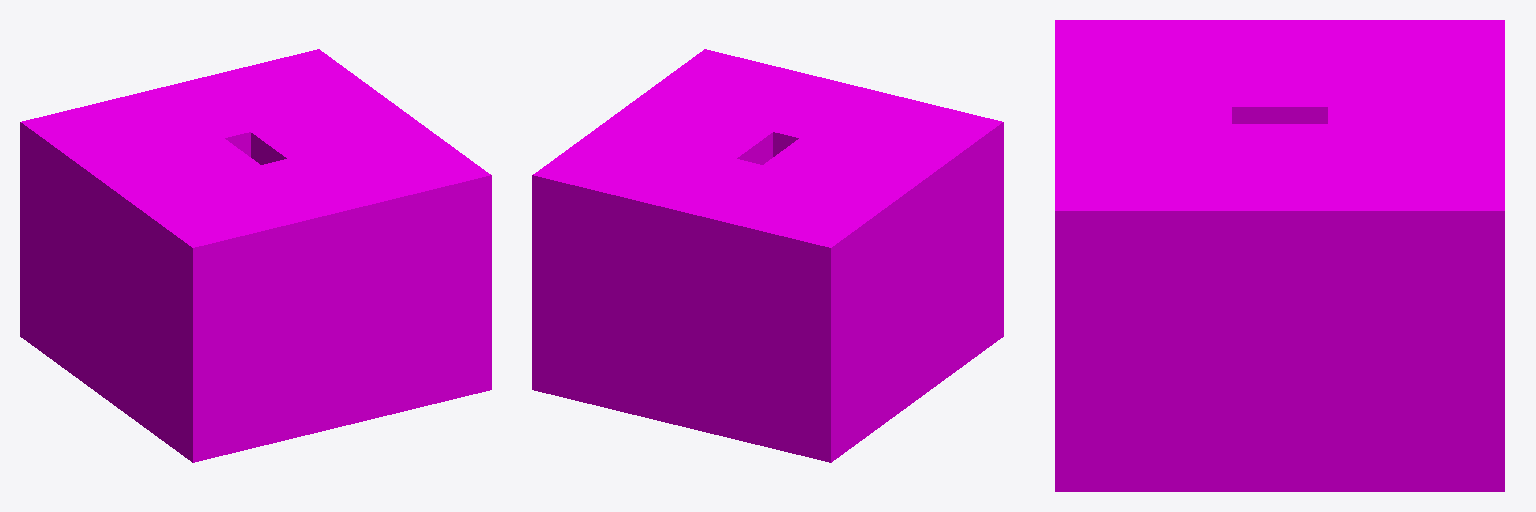
The robot description file, URDF, robot "boxcube1.urdf":
<?xml version="0.0" ?>
<robot name="boxcube1.urdf">
  <link name="block">
    <inertial>
      <origin xyz="0 0 0" />
      <mass value="1" />
      <inertia  ixx="0.00003375" ixy="0.0"  ixz="0.0"  iyy="0.00003375"  iyz="0.0"  izz="0.00003375" />
    </inertial>

    <visual>
      <origin rpy="0 0 0" xyz="0 0 0"/>
      <geometry>
        <mesh filename="../meshes/stl/visual/boxcube1.STL" scale="0.001 0.001 0.001"/>
      </geometry>
       <material name="blue">
        <color rgba="1.0 0 1.0 1"/>
      </material>
    </visual>

    <collision concave="yes">
      <origin rpy="0 0 0" xyz="0 0 0"/>
      <geometry>
           <mesh filename="../meshes/stl/collision/boxcube1.STL" scale="0.001 0.001 0.001"/>
      </geometry>
    </collision>
  </link>
</robot>

--- Render facts (derived) ---
3 views of the same robot in one strip: view 1: azimuth 30°, elevation 25°; view 2: azimuth 150°, elevation 25°; view 3: azimuth 270°, elevation 25° (orthographic).
Robot: boxcube1.urdf — 1 links, 0 joints (none); root link block; default pose: all joints at 0.
Visible links, largest first — view 1: block; view 2: block; view 3: block.
Link boxes in pixels (x1,y1,x2,y2): block: (20, 49, 491, 462); block: (532, 49, 1003, 462); block: (1055, 20, 1504, 491).
Bounding box of the posed robot: 0.08 × 0.08 × 0.055 m (x, y, z).
Meshes: 1 distinct files referenced, 1 mesh visuals loaded (1 binary STL).